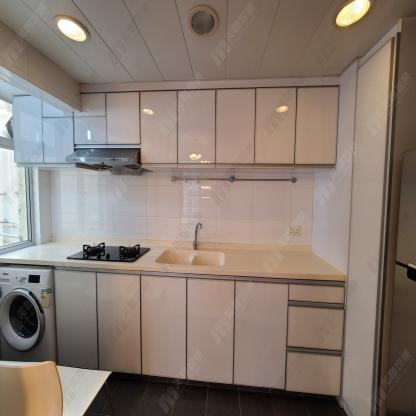Cupboard: (54, 271, 345, 397), (13, 86, 339, 167)
Exhaust Hood: (66, 145, 158, 174)
Faucet: (192, 220, 202, 249)
Sink: (154, 248, 231, 268)
Stove: (64, 240, 150, 264)
